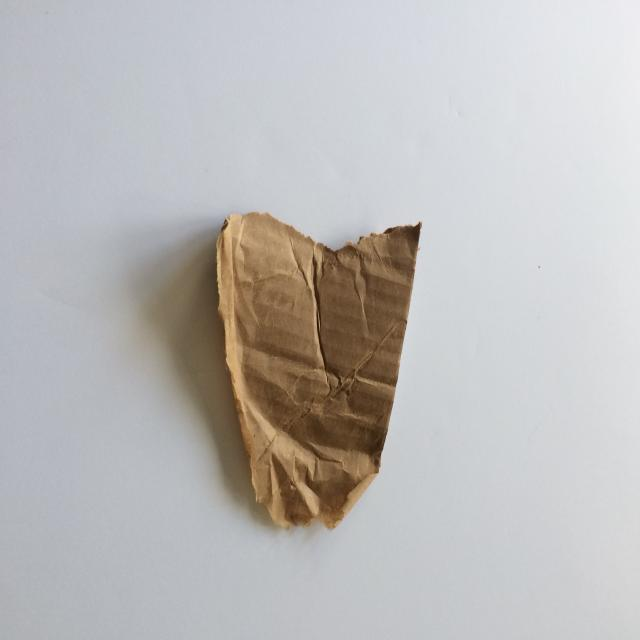cardboard: (215, 210, 423, 531)
